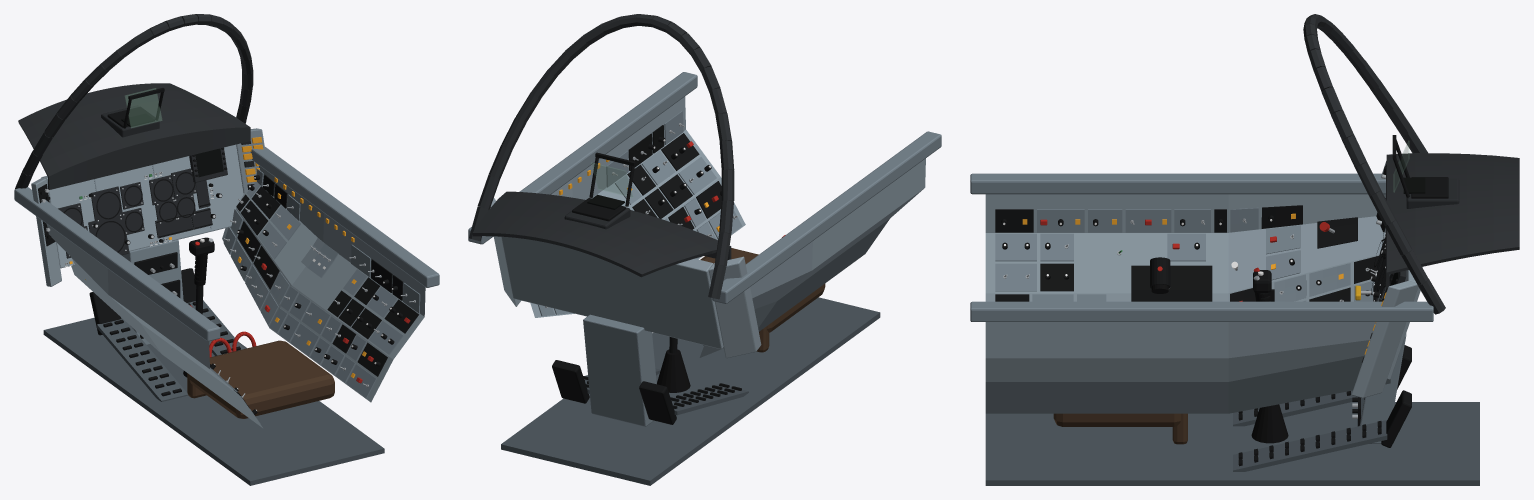
Rendered from mig29-cockpit.glb.
The picture shows the model from 3 angles, left to right: view 1: azimuth 30°, elevation 25°; view 2: azimuth 150°, elevation 25°; view 3: azimuth 270°, elevation 25°; orthographic projection. The views are drawn at different scales.
Visible parts, largest first — view 1: floor, glareshield, side_r, side_l, seat_pan, panel_main, sill_l, sill_r, footwell_-1, pedestal, panel_wing_l, hud_glass (+27 smaller); view 2: floor, panel_main, glareshield, side_l, pedestal, sill_l, sill_r, side_r, panel_wing_l, pedal_1, pedal_-1, stick_boot (+11 smaller); view 3: side_r, floor, side_l, glareshield, sill_r, sill_l, panel_wing_r, footwell_1, throttle_quadrant, seat_pan, pedestal, footwell_-1 (+22 smaller).
Part boxes in pixels (<box>): floor: <box>43,317,384,485</box>; glareshield: <box>18,83,250,189</box>; side_r: <box>222,166,425,402</box>; side_l: <box>46,224,262,427</box>; seat_pan: <box>188,340,334,418</box>; panel_main: <box>41,144,243,268</box>; sill_l: <box>14,187,220,341</box>; sill_r: <box>250,146,439,287</box>; footwell_-1: <box>97,318,188,401</box>; pedestal: <box>122,240,183,345</box>; panel_wing_l: <box>31,177,61,286</box>; hud_glass: <box>125,88,162,127</box>; floor: <box>501,297,880,485</box>; panel_main: <box>501,236,723,349</box>; glareshield: <box>472,191,731,277</box>; side_l: <box>699,158,925,357</box>; pedestal: <box>583,314,656,426</box>; sill_l: <box>712,131,941,303</box>; sill_r: <box>468,72,697,244</box>; side_r: <box>530,96,745,317</box>; panel_wing_l: <box>708,256,761,358</box>; pedal_1: <box>552,360,589,403</box>; pedal_-1: <box>639,381,676,424</box>; stick_boot: <box>657,349,690,392</box>; side_r: <box>985,322,1390,413</box>; floor: <box>985,402,1479,485</box>; side_l: <box>985,194,1385,301</box>; glareshield: <box>1386,153,1519,288</box>; sill_r: <box>970,301,1433,321</box>; sill_l: <box>970,173,1385,194</box>; panel_wing_r: <box>1351,281,1418,398</box>; footwell_1: <box>1233,420,1387,471</box>; throttle_quadrant: <box>1131,265,1212,301</box>; seat_pan: <box>1053,413,1180,426</box>; pedestal: <box>1357,333,1406,443</box>; footwell_-1: <box>1233,390,1357,426</box>.
Bounding box in the file's own units: 1.04 × 1.51 × 1.78.
